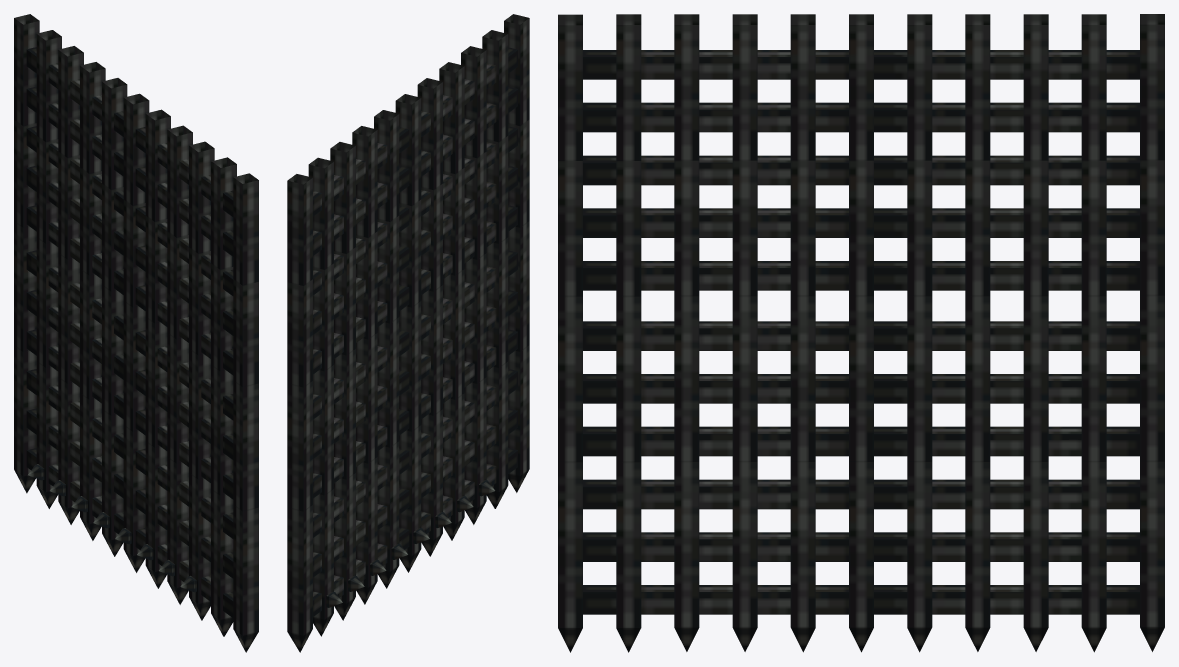
The model's file is EnvBdgMD_Castle_Rain_A_Portcullis_A.FBX.
3 views of the same model, side by side, from view 1: azimuth 30°, elevation 25°; view 2: azimuth 150°, elevation 25°; view 3: azimuth 270°, elevation 25° (orthographic). The views are drawn at different scales.
Visible parts, largest first — view 1: EnvBdgMD_Castle_Rain_A_Portcullis_A; view 2: EnvBdgMD_Castle_Rain_A_Portcullis_A; view 3: EnvBdgMD_Castle_Rain_A_Portcullis_A.
Boxes of the visible parts, x1=… form: EnvBdgMD_Castle_Rain_A_Portcullis_A: x1=14, y1=14, x2=258, y2=652; EnvBdgMD_Castle_Rain_A_Portcullis_A: x1=287, y1=14, x2=529, y2=652; EnvBdgMD_Castle_Rain_A_Portcullis_A: x1=558, y1=14, x2=1164, y2=652.
Bounding box in the file's own units: 28.06 × 420 × 365.
